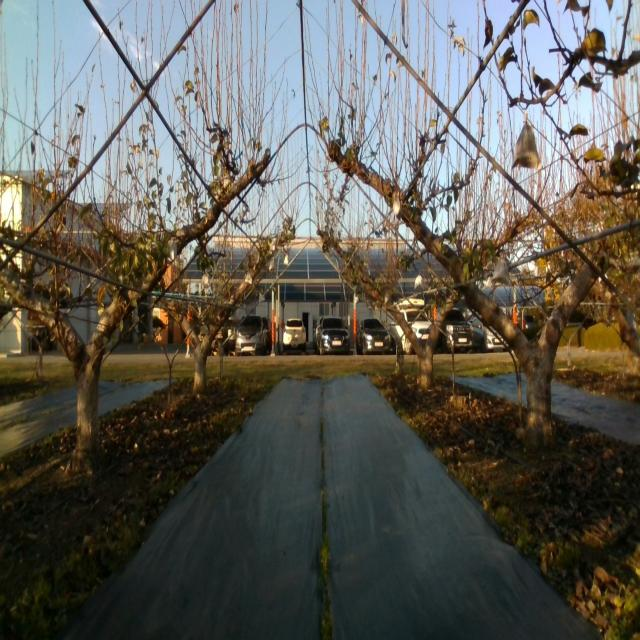pearbags: (514, 123, 542, 169), (492, 258, 512, 286)
